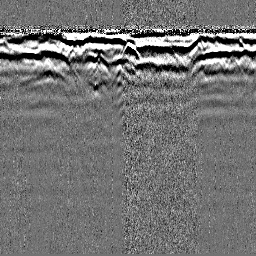cavity: (121, 40, 141, 60)
